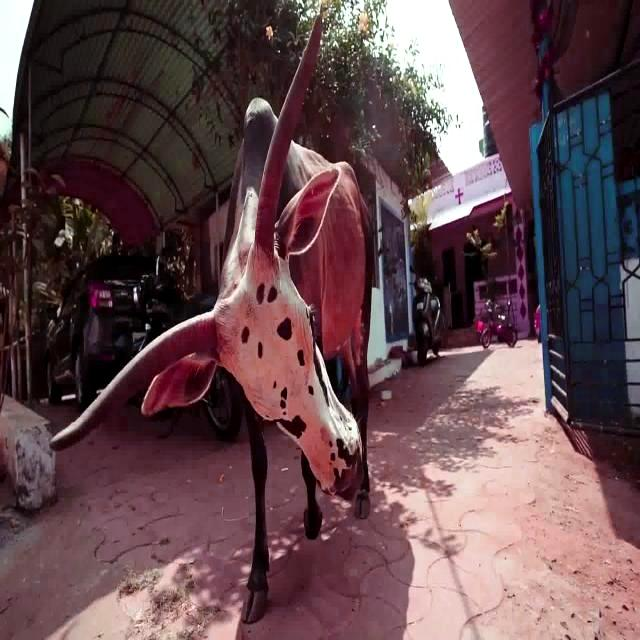COW: (51, 18, 370, 623)
